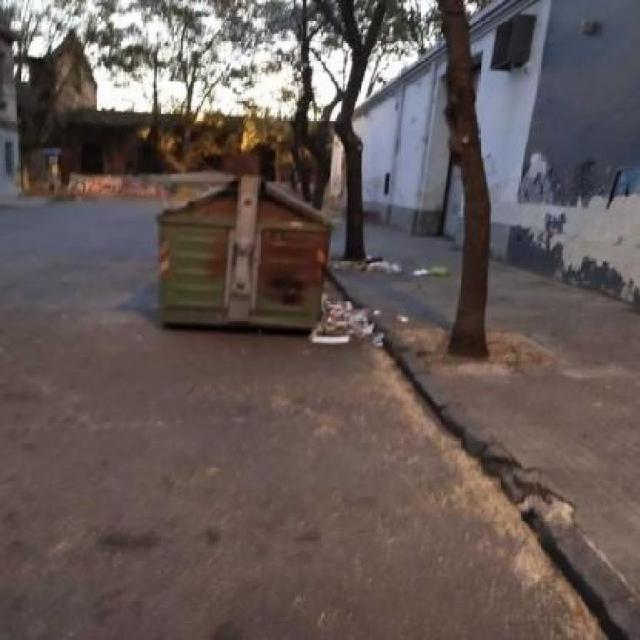garbage: (320, 285, 382, 357), (338, 251, 444, 284)
